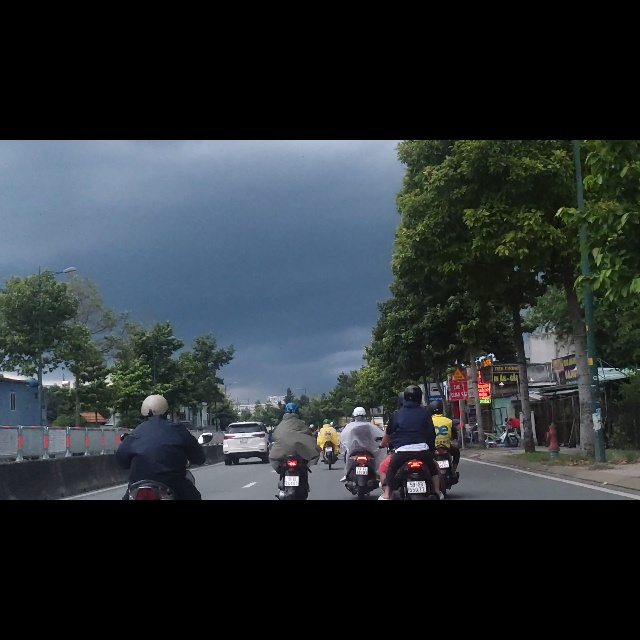bien_nguy_hiem: (428, 430, 444, 464), (450, 404, 466, 428)
